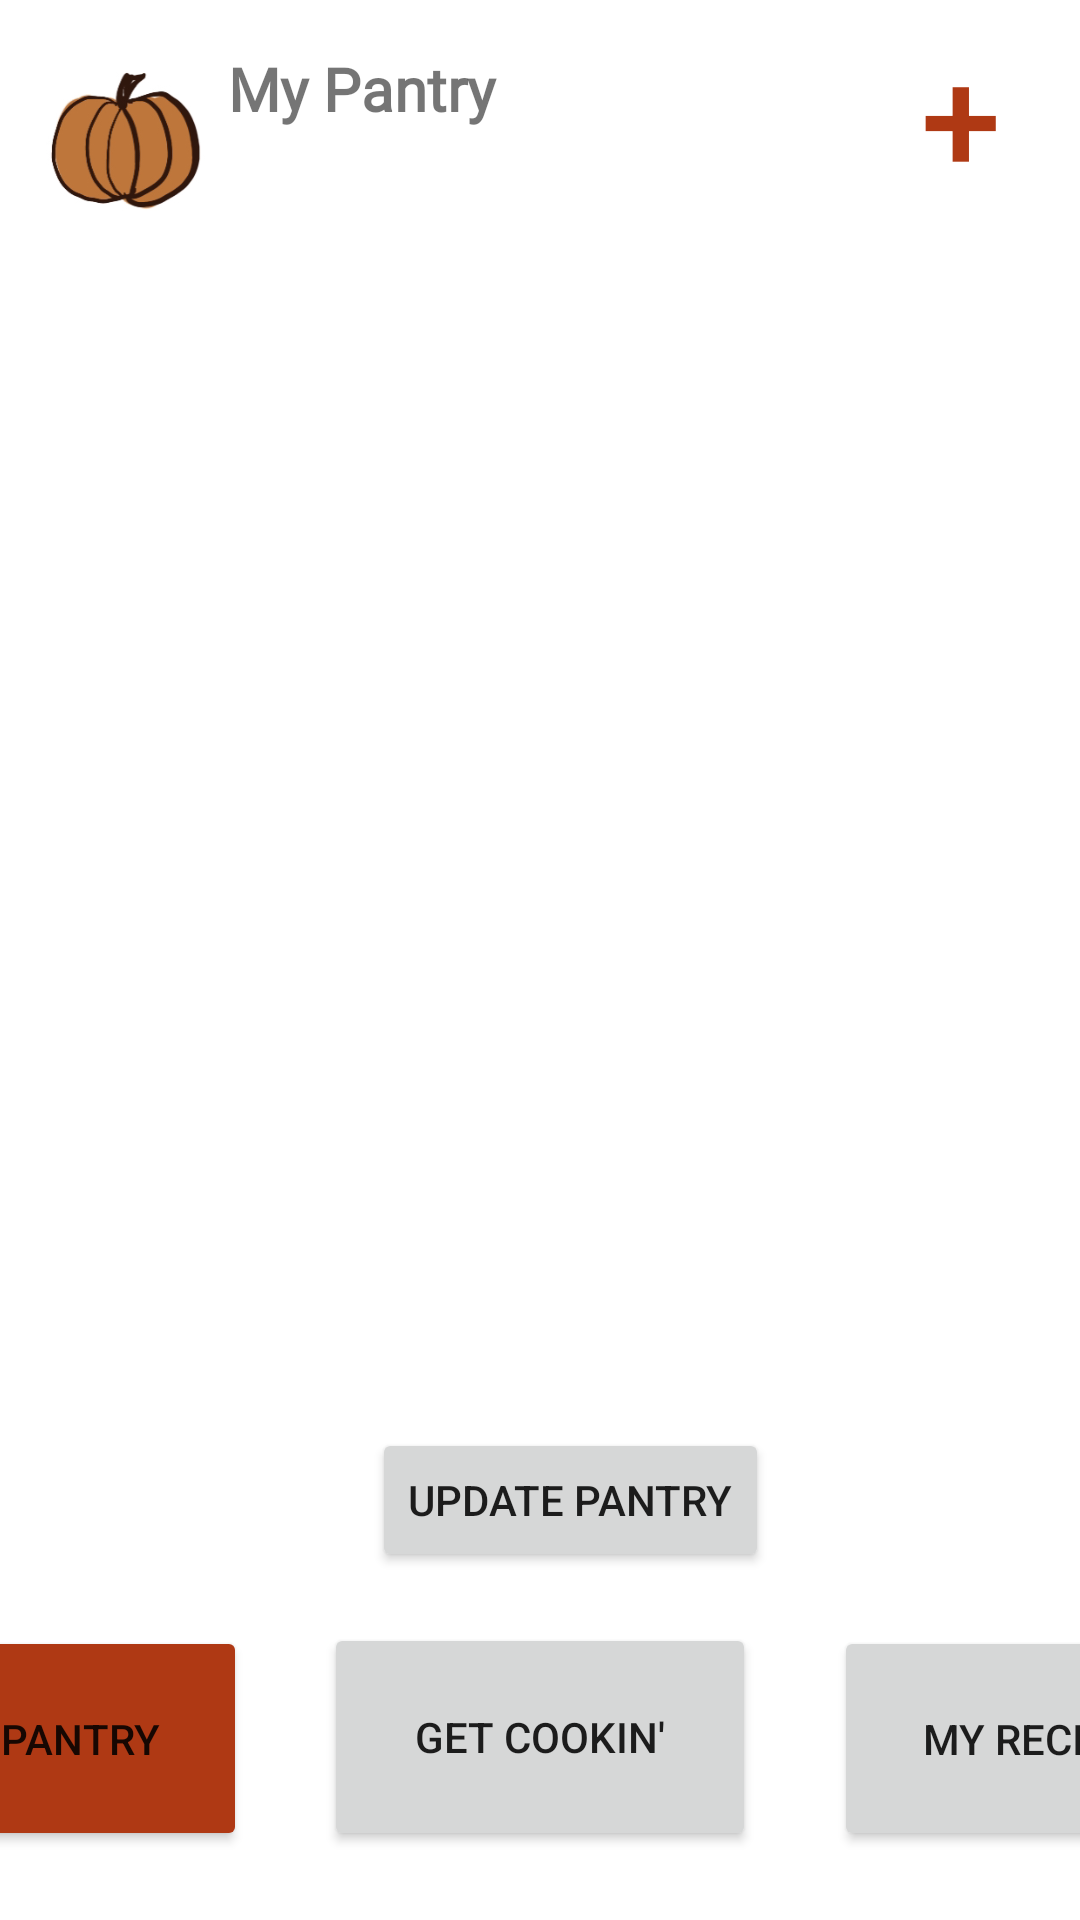

Locate icon controls on the screen. Image size 1080*1920, boxes as (x1, y1, x2, y2).
pumpkin: (51, 73, 200, 209)
